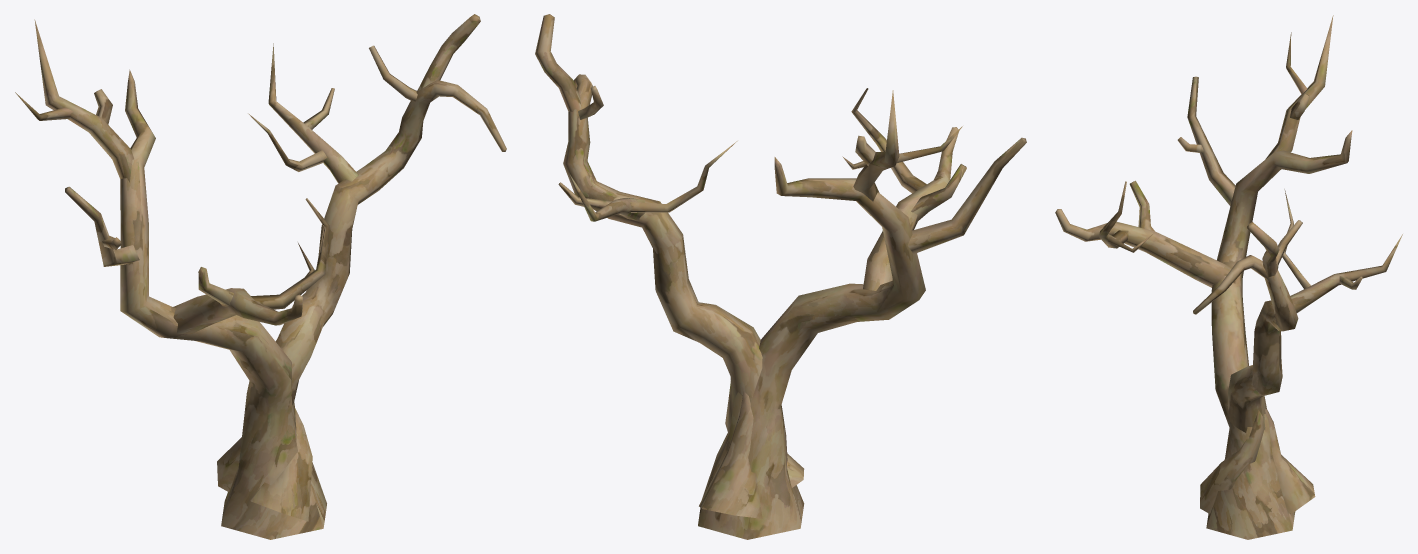
Rendered from P_KnotwoodDead02.obj.
3 renders of one model, left to right at view 1: azimuth 30°, elevation 25°; view 2: azimuth 150°, elevation 25°; view 3: azimuth 270°, elevation 25°, orthographic. The views are drawn at different scales.
Bounding box in the file's own units: 10.47 × 11.32 × 8.38.
